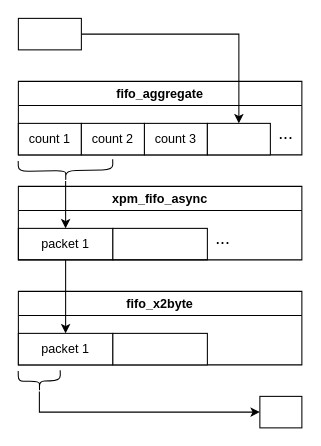
Image size: 321x446. Some labels were removed from this diagram. The shapes that lost their labels are listed below. From the top down, each one's centre as x and y in pixels, then its label:
At pixel 49 33: "count".
At pixel 280 411: "byte 1".
